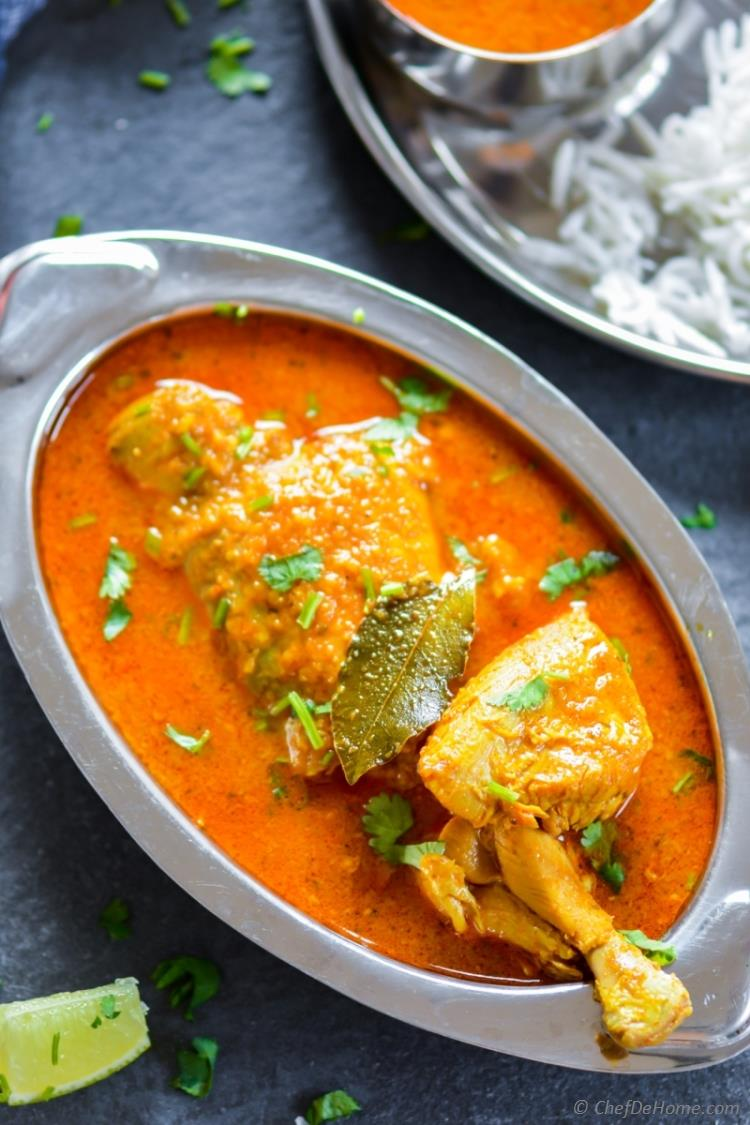chicken_curry: (254, 382, 689, 1080)
